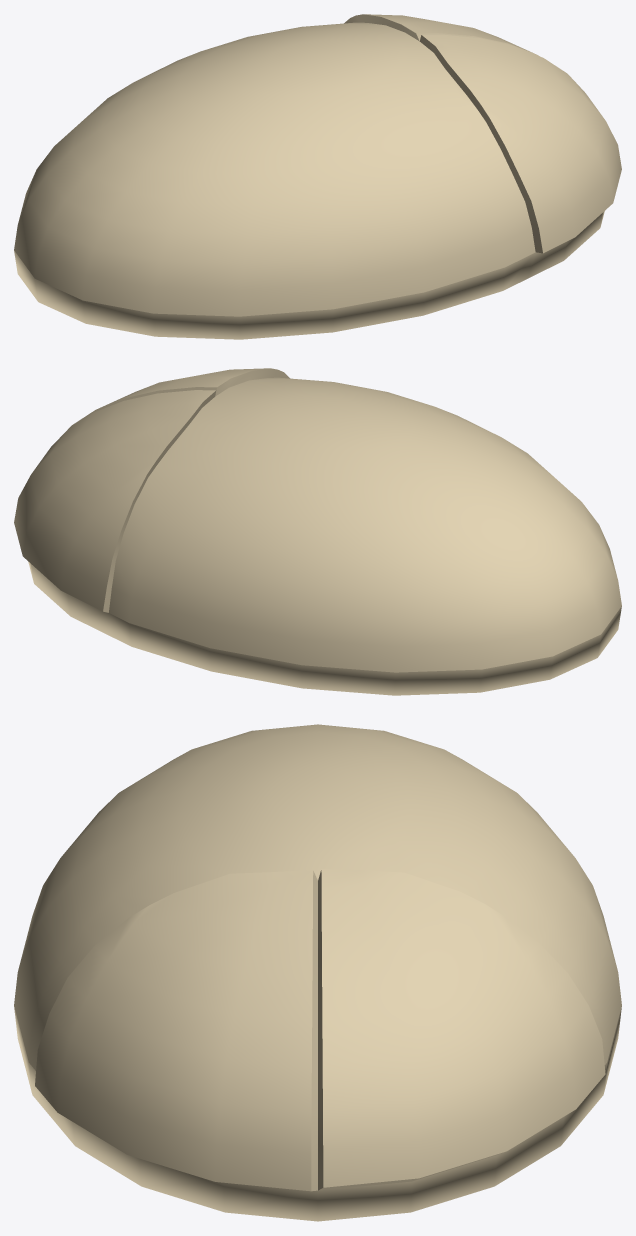
Rendered from CompuMouse.obj.
3 renders of one model, top to bottom at view 1: azimuth 30°, elevation 25°; view 2: azimuth 150°, elevation 25°; view 3: azimuth 270°, elevation 25°, orthographic. The views are drawn at different scales.
Parts seen in each view (by area): view 1: Mouse Compu; view 2: Mouse Compu; view 3: Mouse Compu.
Boxes of the visible parts, <box> form: Mouse Compu: <box>14,14,621,339</box>; Mouse Compu: <box>14,368,621,695</box>; Mouse Compu: <box>14,724,621,1221</box>.
Bounding box in the file's own units: 15.42 × 4.78 × 10.56.
1 material, 1 textured.
